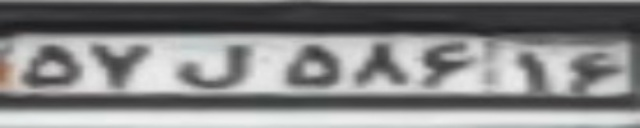1: (513, 49, 548, 91)
5: (285, 43, 340, 87), (22, 44, 78, 87)
6: (416, 39, 469, 88), (565, 50, 621, 91)
7: (91, 42, 151, 90)
8: (349, 42, 408, 88)
lam: (178, 43, 253, 88)
